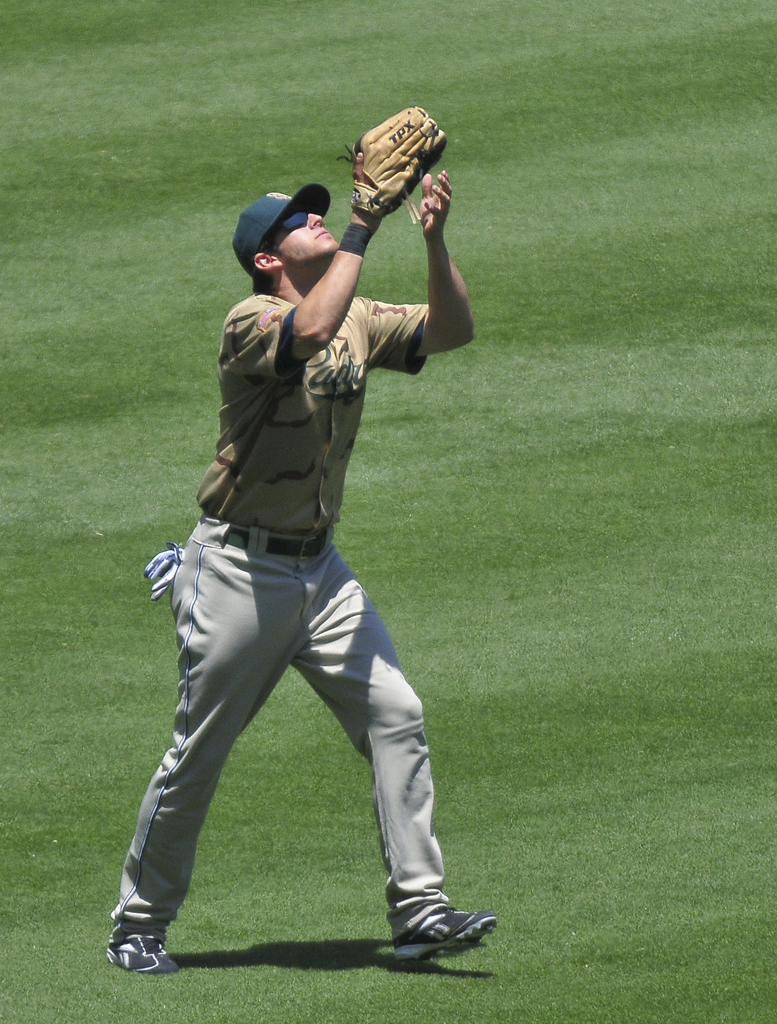Human_hand: (342, 111, 452, 227), (413, 162, 455, 252)
